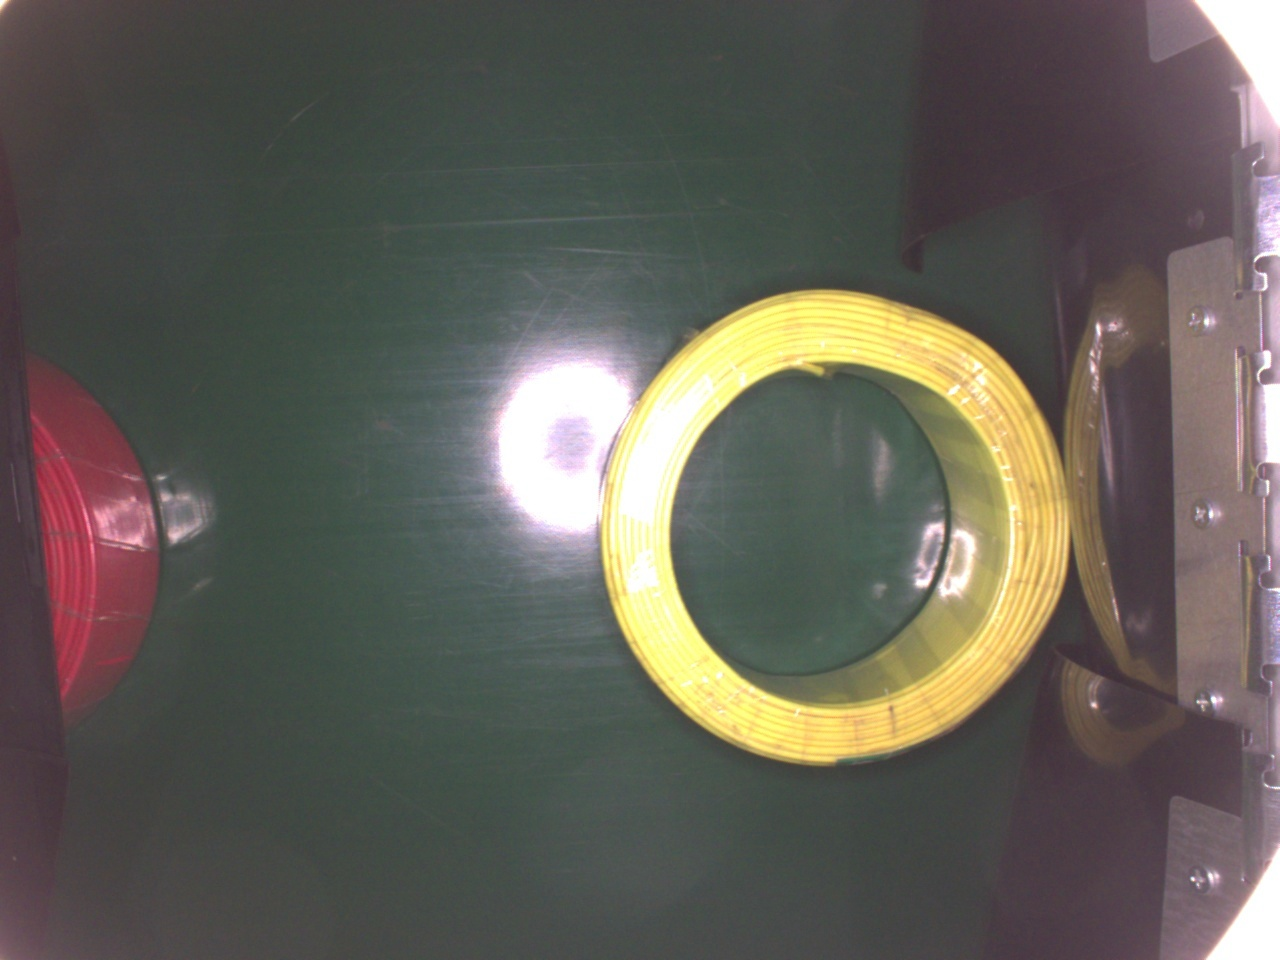red: (31, 343, 161, 734)
yellow: (586, 285, 1070, 779)
